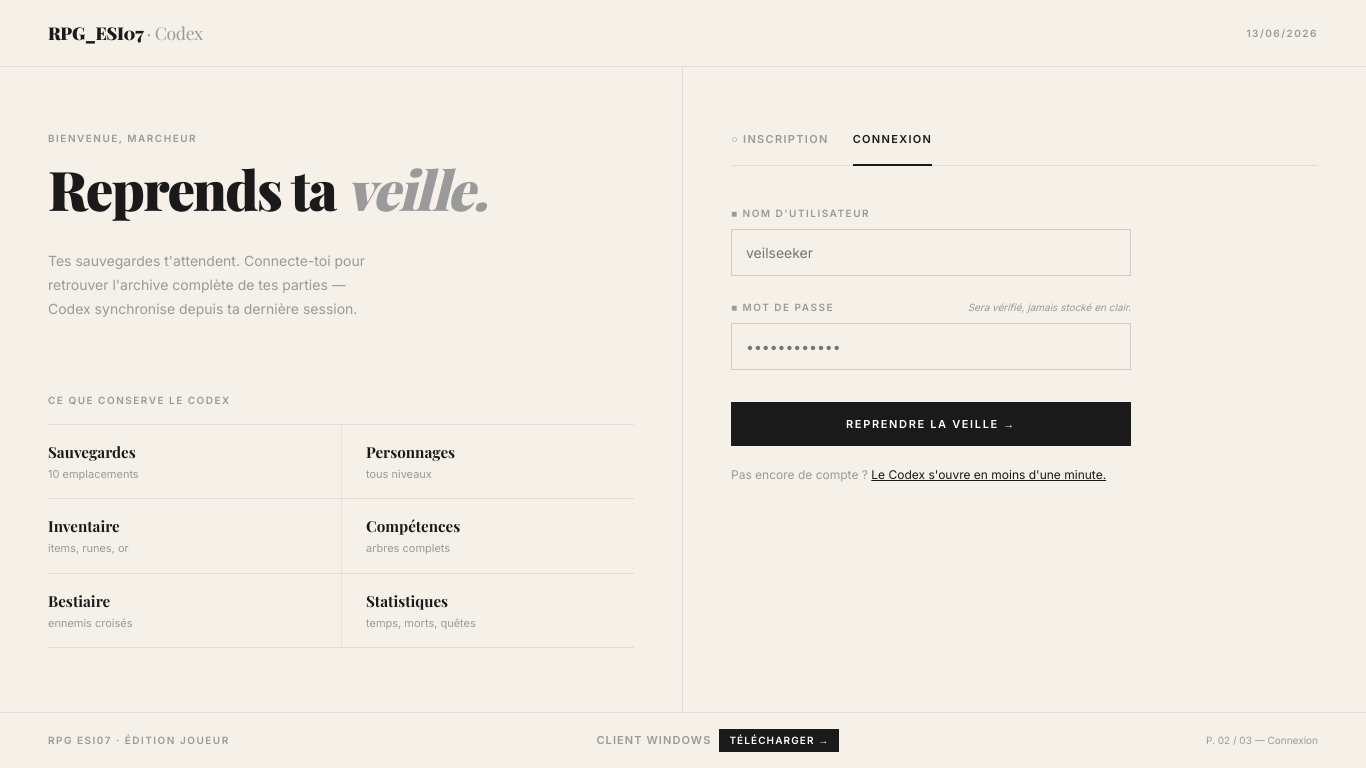
Test case: LoginView › affiche une erreur si le login échoue
Click the button "Reprendre la veille →" at (931, 424), box [731,402,1131,446]
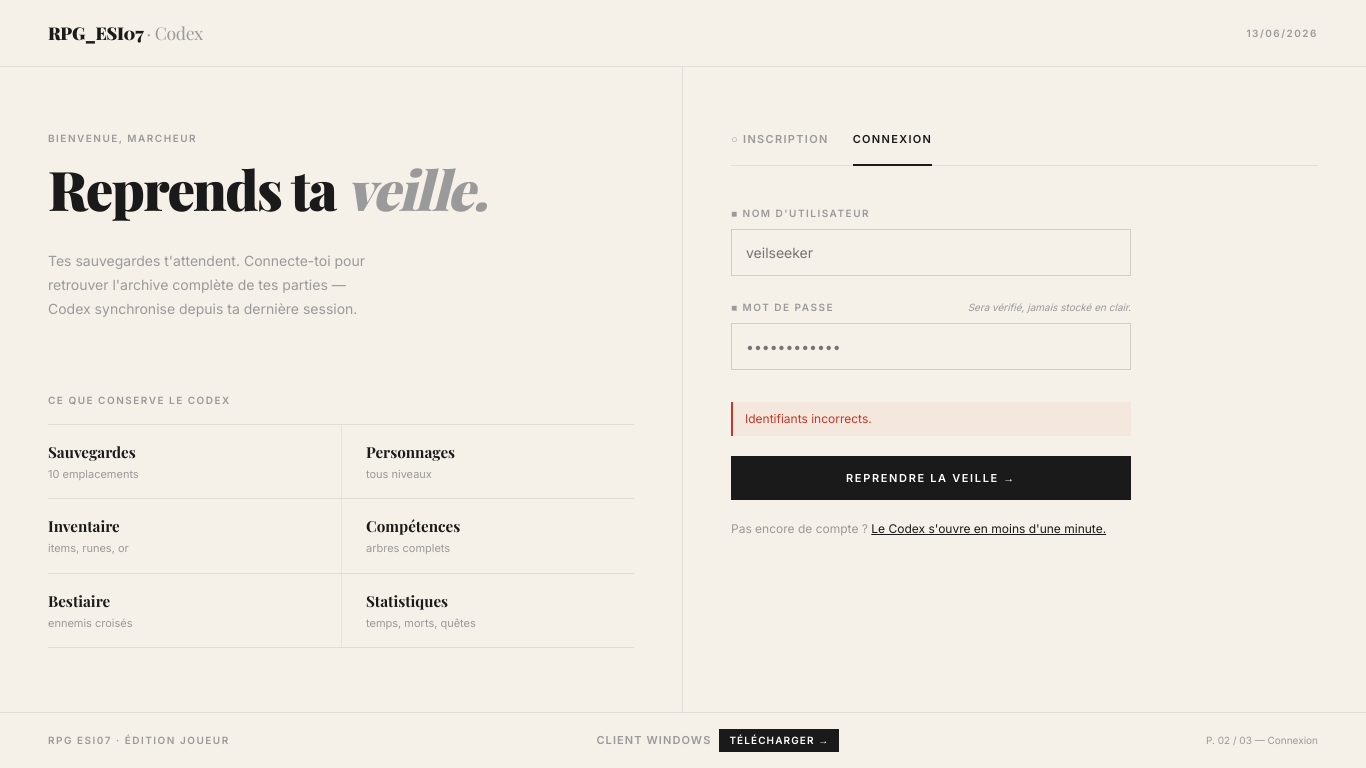
Expected: the text "Identifiants" is shown, [745,411,872,426]
